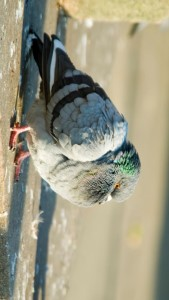pigeon: (8, 24, 143, 211)
